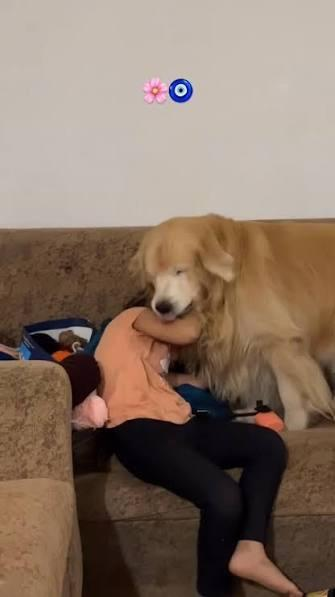adult_dog: (129, 212, 335, 433)
non-dog: (96, 306, 304, 597)
